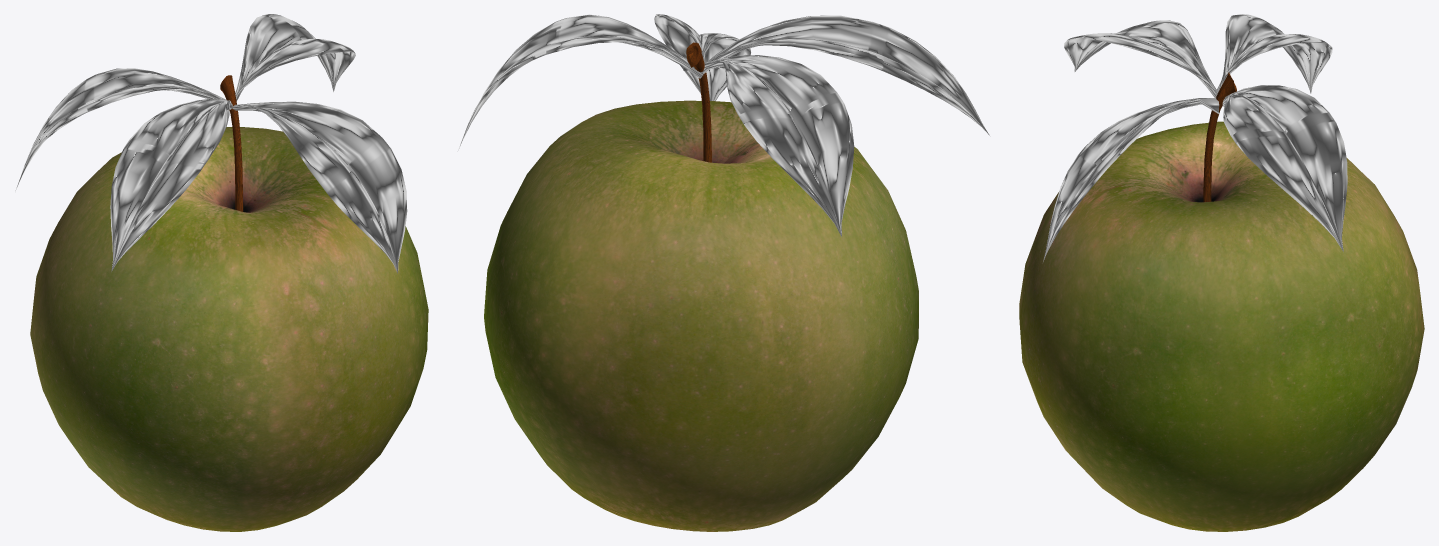
Rendered from apple.fbx.
The picture shows the model from 3 angles, left to right: view 1: azimuth 30°, elevation 25°; view 2: azimuth 150°, elevation 25°; view 3: azimuth 270°, elevation 25°; orthographic projection. The views are drawn at different scales.
Visible parts, largest first — view 1: F04_Green_apple_5, Leaf01_1, Leaf03_1, Leaf04_1, Leaf02_1, Tig; view 2: F04_Green_apple_5, Leaf02_1, Leaf03_1, Leaf04_1, Leaf01_1, Tig; view 3: F04_Green_apple_5, Leaf04_1, Leaf01_1, Leaf03_1, Leaf02_1, Tig.
Boxes of the visible parts, x1,y1,x2,y2 form: F04_Green_apple_5: (30, 127, 428, 531); Leaf01_1: (232, 101, 407, 273); Leaf03_1: (110, 98, 232, 271); Leaf04_1: (235, 14, 355, 100); Leaf02_1: (15, 68, 225, 190); Tig: (220, 75, 243, 211); F04_Green_apple_5: (484, 100, 918, 531); Leaf02_1: (704, 55, 854, 236); Leaf03_1: (702, 15, 989, 135); Leaf04_1: (458, 14, 703, 149); Leaf01_1: (654, 14, 750, 100); Tig: (686, 42, 711, 162); F04_Green_apple_5: (1019, 121, 1424, 531); Leaf04_1: (1222, 85, 1347, 251); Leaf01_1: (1043, 98, 1219, 261); Leaf03_1: (1064, 20, 1217, 97); Leaf02_1: (1217, 14, 1332, 93); Tig: (1203, 72, 1236, 202).
Size of the model in its own units: 68.55 by 78.58 by 65.3.
